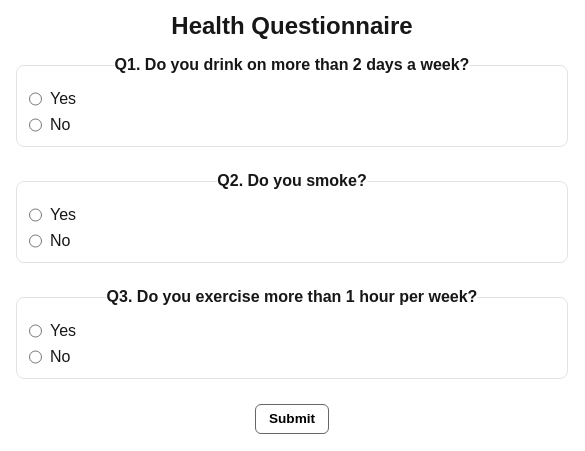
Questionnaire scoring › calculates score and shows advice message
Click the 1st radio button labelled "Yes" at (36, 99), box x1=29 y1=90 x2=42 y2=108
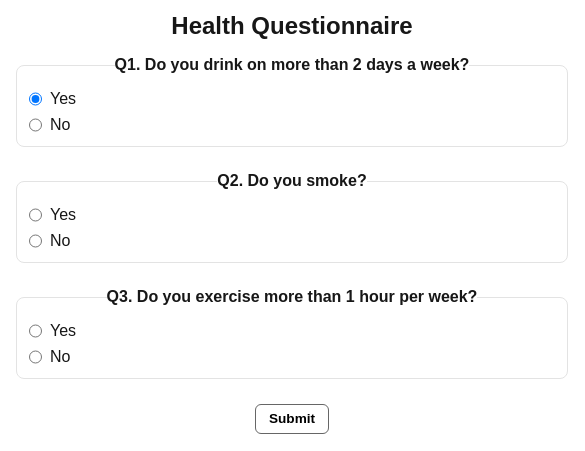
Click the radio button labelled "Yes" below "Q2. Do you smoke?" at (36, 215), box x1=29 y1=206 x2=42 y2=224
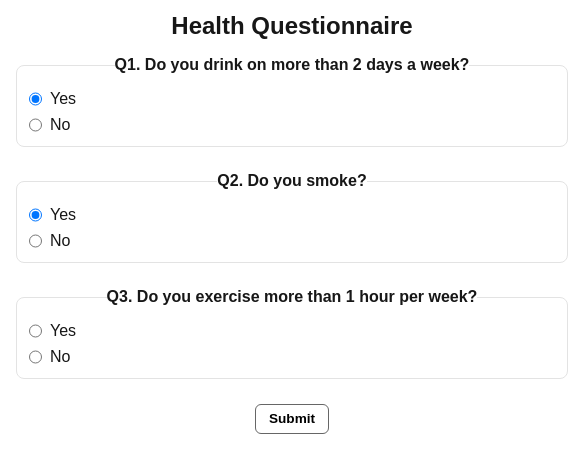
Click the 3rd radio button labelled "No" at (36, 357), box x1=29 y1=348 x2=42 y2=366
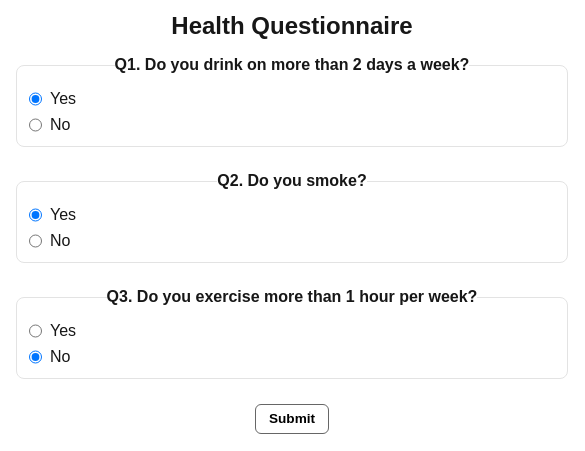
Click the button "Submit" at (292, 419), box x1=255 y1=404 x2=329 y2=434
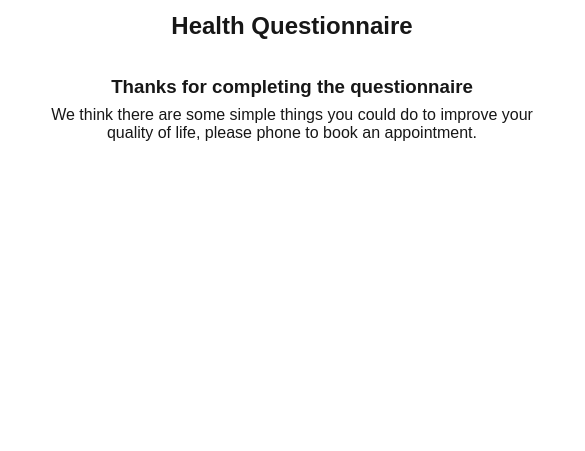
Check: the text "We think there are some simple things you could do to improve your quality of life, please phone to book an appointment." is shown, box x1=51 y1=106 x2=533 y2=141
